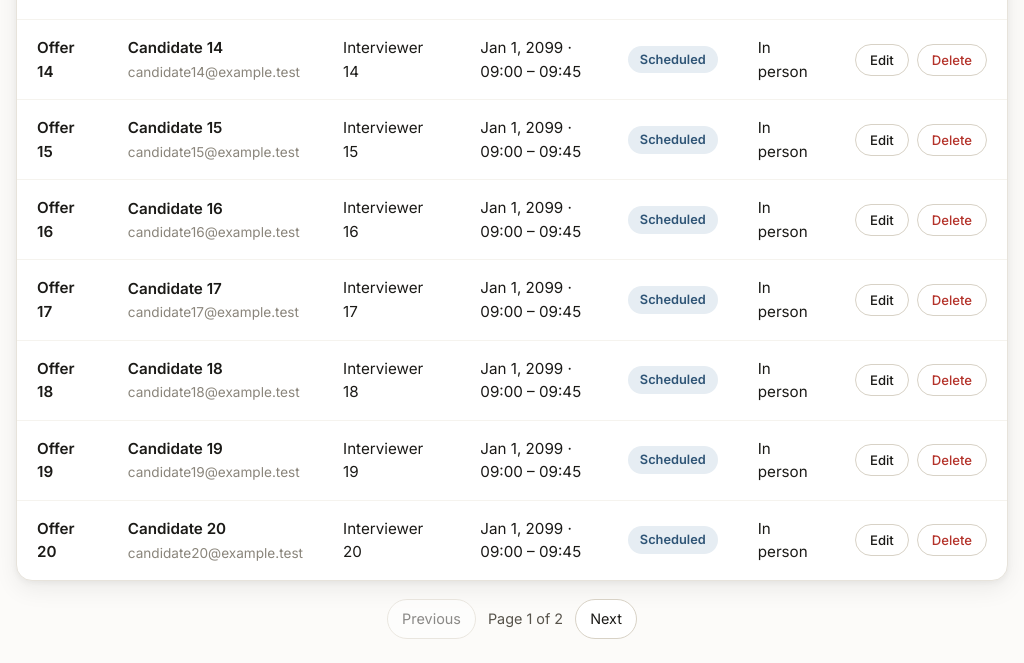
Test: pagination across application and interview workflows › reaches interviews after the first 20
(page scrolled)
What coordinates should you click on to do the following:
click the button "Next"
I would click on:
 (606, 619)
Its box is [575, 599, 637, 639].
(page scrolled)
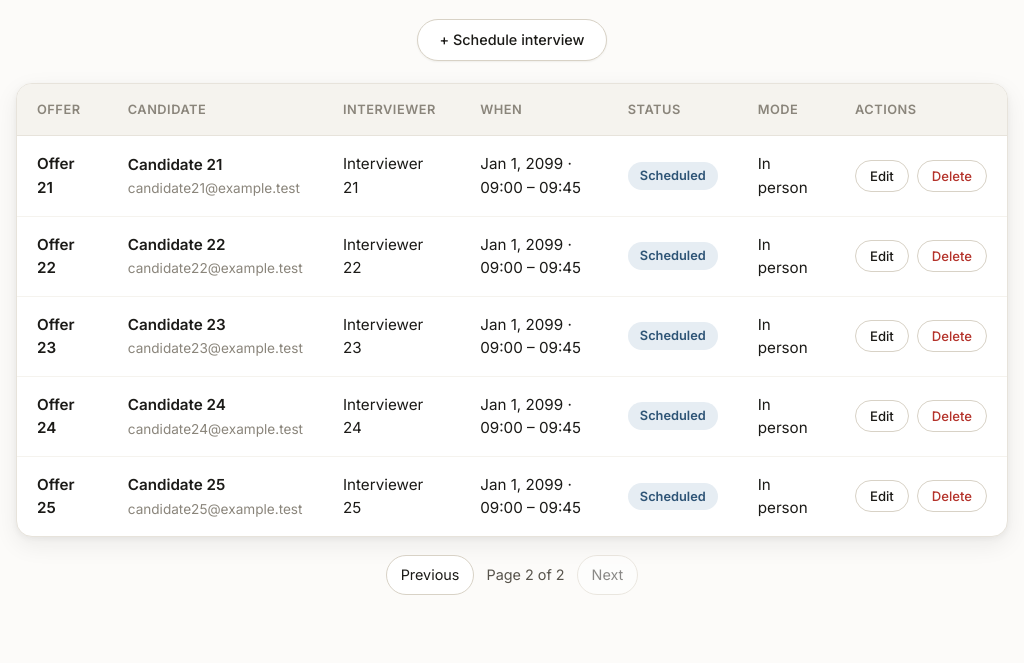
Expected: the text "Candidate 21" is shown, [128, 155, 222, 174]
